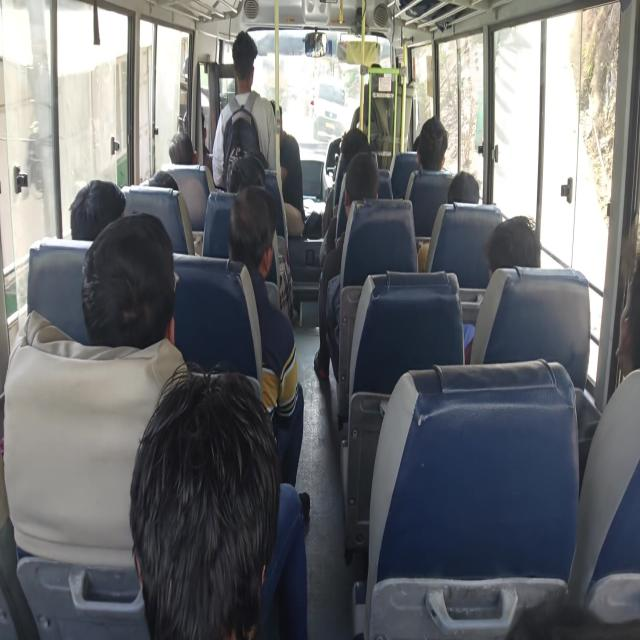person: (134, 384, 266, 626), (78, 207, 188, 366), (215, 191, 304, 275), (486, 216, 564, 290), (69, 178, 134, 256), (595, 250, 640, 351), (346, 149, 407, 219), (417, 112, 460, 170), (235, 31, 272, 97), (334, 123, 370, 177), (153, 164, 190, 204), (228, 151, 260, 196), (448, 172, 480, 214), (165, 128, 195, 172), (271, 96, 295, 150), (400, 120, 431, 157), (248, 138, 274, 170)
